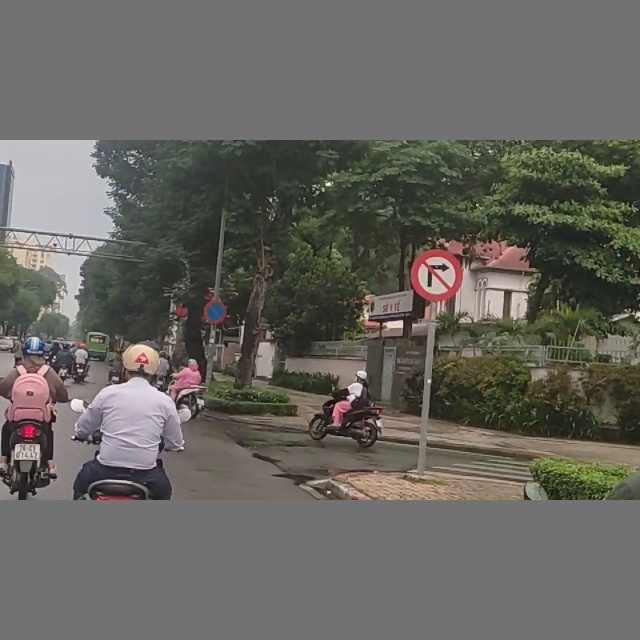P.123b: (412, 248, 462, 301)
P.131a: (203, 300, 227, 323)
